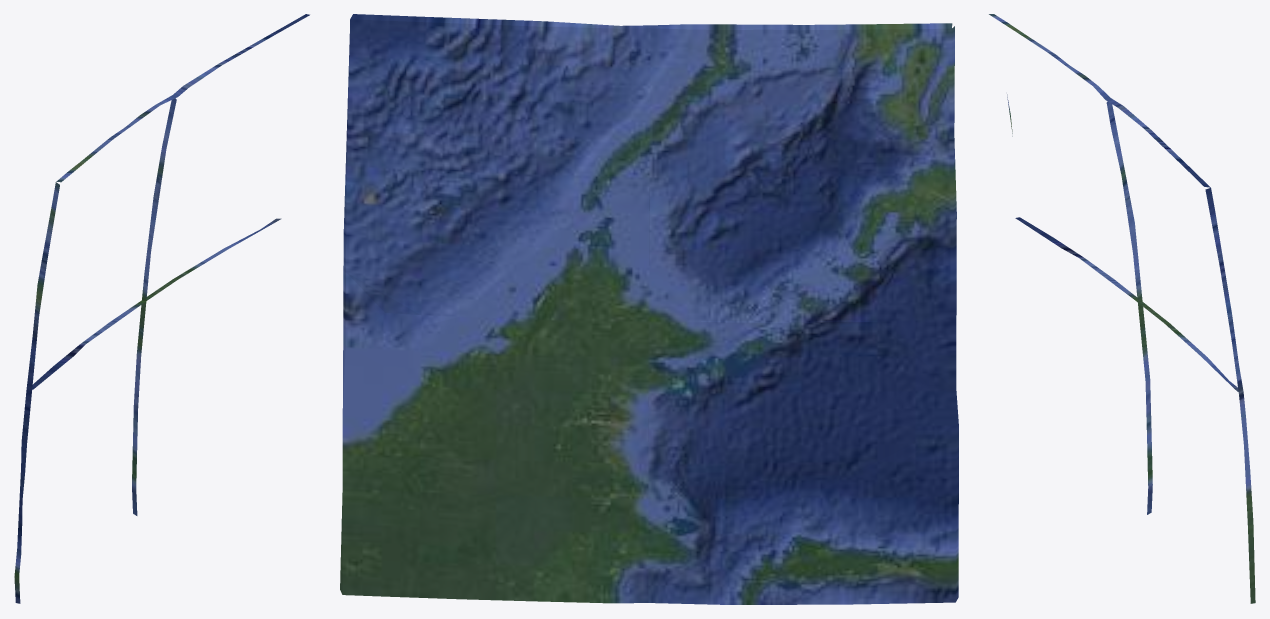
3 views of the same model, side by side, from view 1: azimuth 30°, elevation 25°; view 2: azimuth 150°, elevation 25°; view 3: azimuth 270°, elevation 25° (orthographic). The views are drawn at different scales.
Size of the model in its own units: 1165150 by 1253942 by 712185.
1 material, 1 textured.
